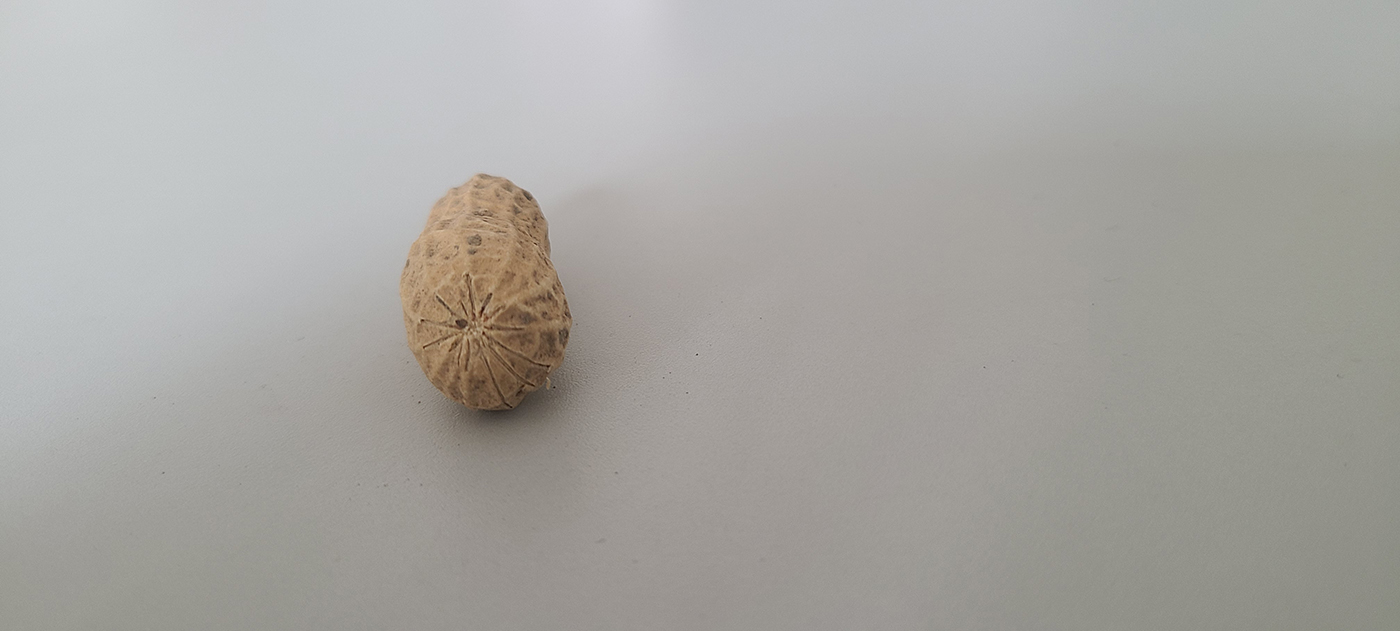h: (400, 170, 573, 411)
